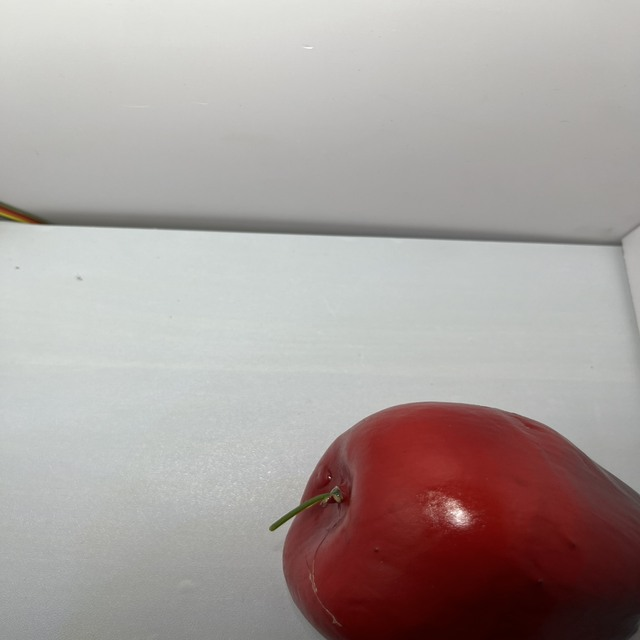Tao: (275, 396, 640, 640)
